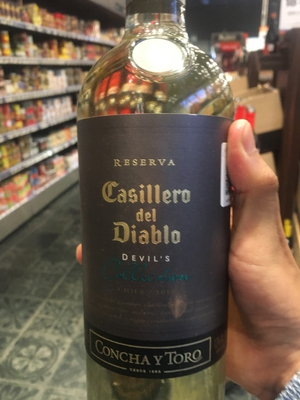casillero del diablo devils collection verde: (67, 14, 249, 400)
